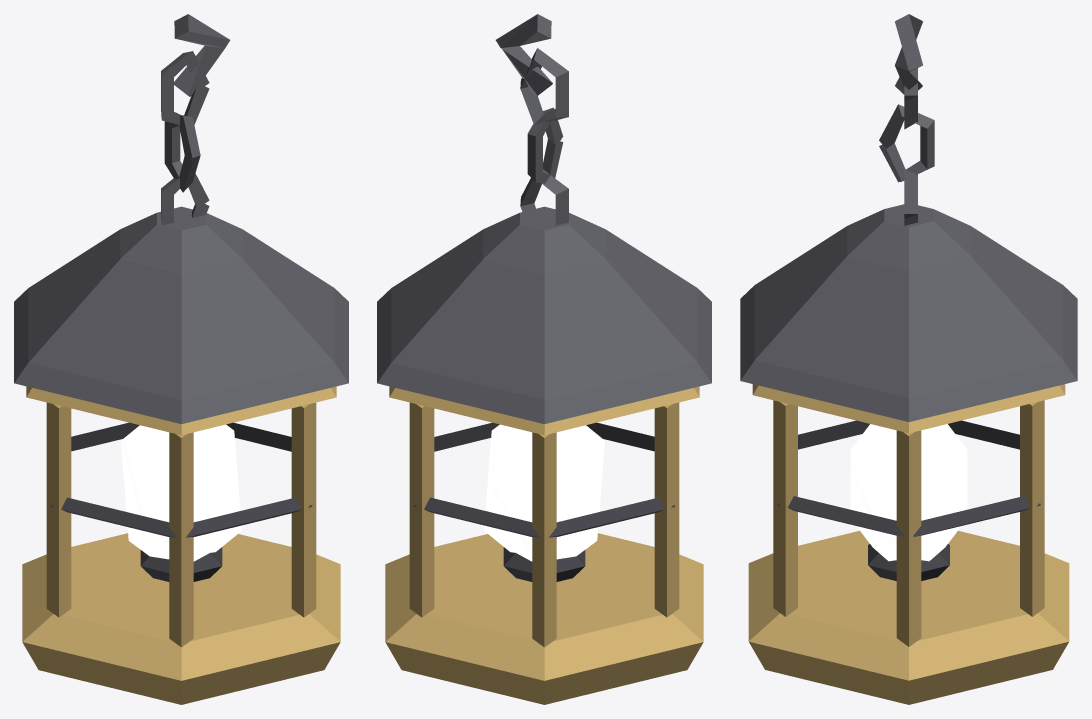
File: lantern-lantern.glb
3 renders of one model, left to right at view 1: azimuth 30°, elevation 25°; view 2: azimuth 150°, elevation 25°; view 3: azimuth 270°, elevation 25°, orthographic.
Visible parts, largest first — view 1: lantern; view 2: lantern; view 3: lantern.
Part boxes in pixels (x1=…): lantern: x1=14, y1=14, x2=348, y2=704; lantern: x1=377, y1=14, x2=711, y2=704; lantern: x1=740, y1=14, x2=1077, y2=704.
Bounding box in the file's own units: 0.164 × 0.3 × 0.142.
